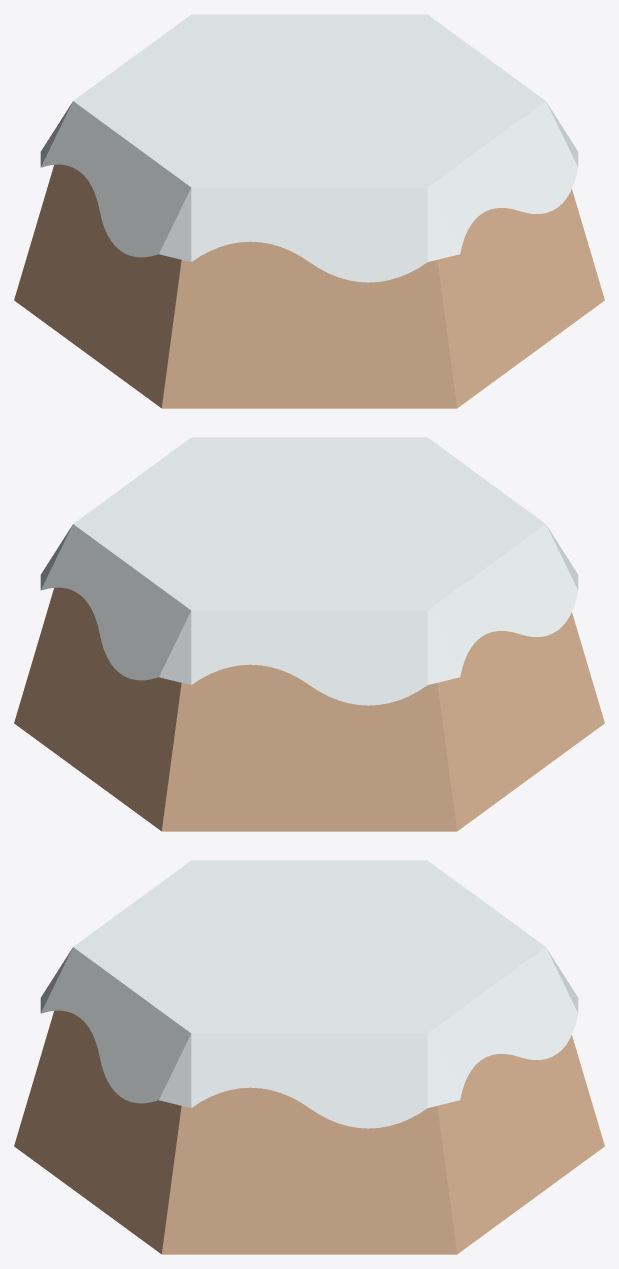
3 views of the same model, one above another, from view 1: azimuth 30°, elevation 25°; view 2: azimuth 150°, elevation 25°; view 3: azimuth 270°, elevation 25° (orthographic).
Parts seen in each view (by area): view 1: blockSnowHexagonLow; view 2: blockSnowHexagonLow; view 3: blockSnowHexagonLow.
Boxes of the visible parts, left/top/right/bottom form: blockSnowHexagonLow: left=14, top=14, right=604, bottom=408; blockSnowHexagonLow: left=14, top=437, right=604, bottom=831; blockSnowHexagonLow: left=14, top=860, right=604, bottom=1254.
Size of the model in its own units: 1 by 0.4298 by 1.15.
